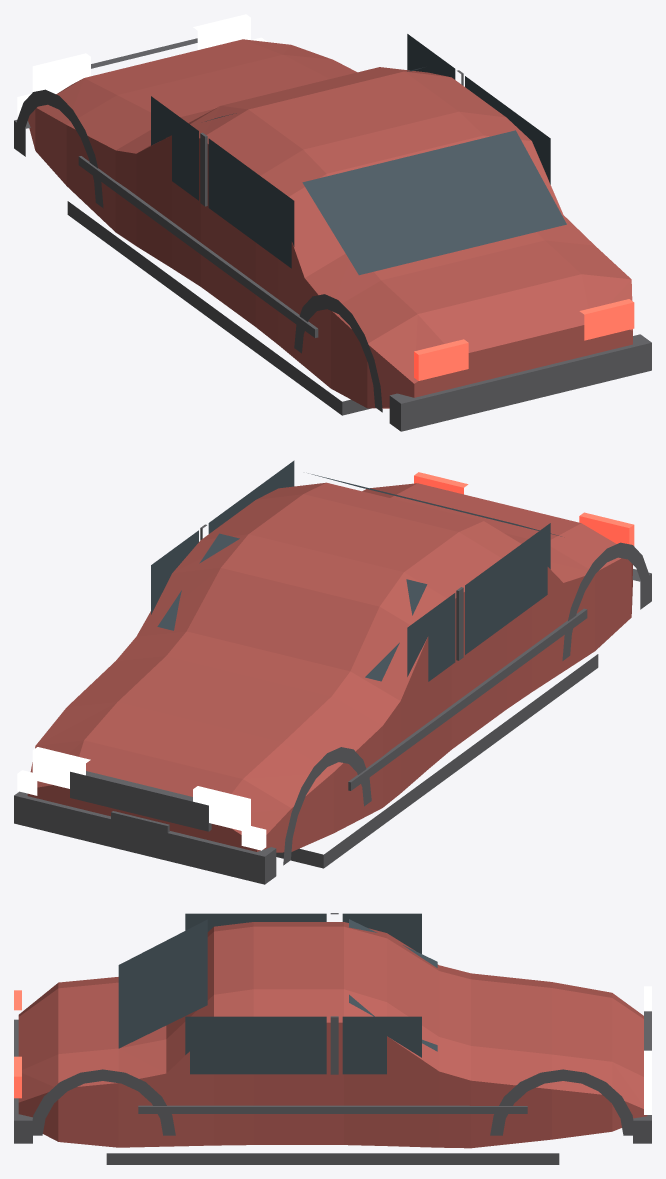
Rendered from zastava_rounded.glb.
3 views of the same model, one above another, from view 1: azimuth 30°, elevation 25°; view 2: azimuth 150°, elevation 25°; view 3: azimuth 270°, elevation 25° (orthographic). The views are drawn at different scales.
Visible parts, largest first — view 1: car_body; view 2: car_body; view 3: car_body.
Part boxes in pixels (x1=…): car_body: x1=14, y1=14, x2=651, y2=431; car_body: x1=14, y1=460, x2=651, y2=884; car_body: x1=14, y1=913, x2=651, y2=1164.
Size of the model in its own units: 1.63 by 1.08 by 4.02.
